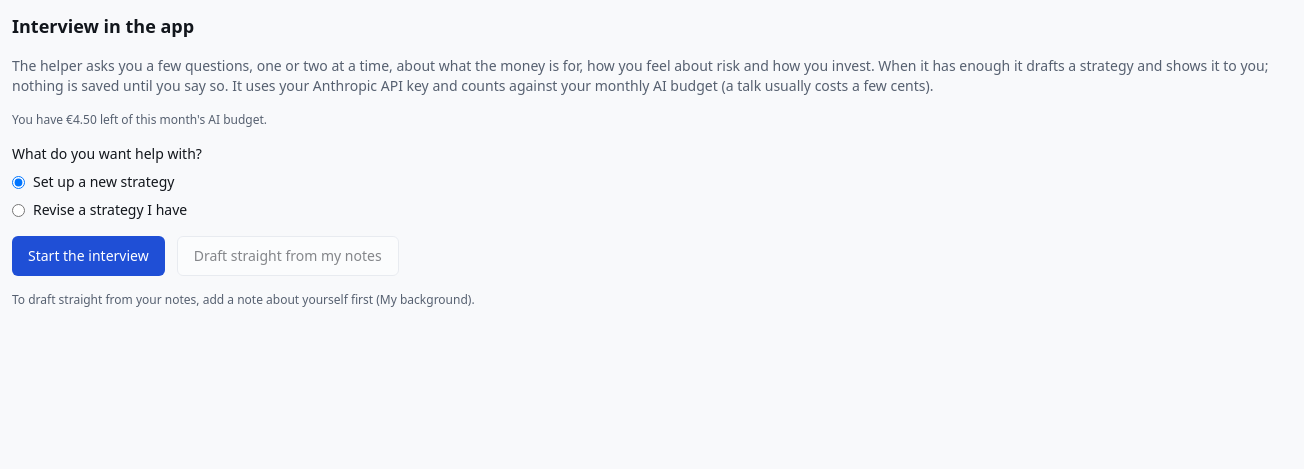
Scenario: the strategy interview in the app (ADR 0048) › revises a chosen strategy and shows what happened when the budget is used up
Click the radio button labelled "Revise a strategy I have" at (18, 210), box top-left (12, 204), bottom-right (25, 216)
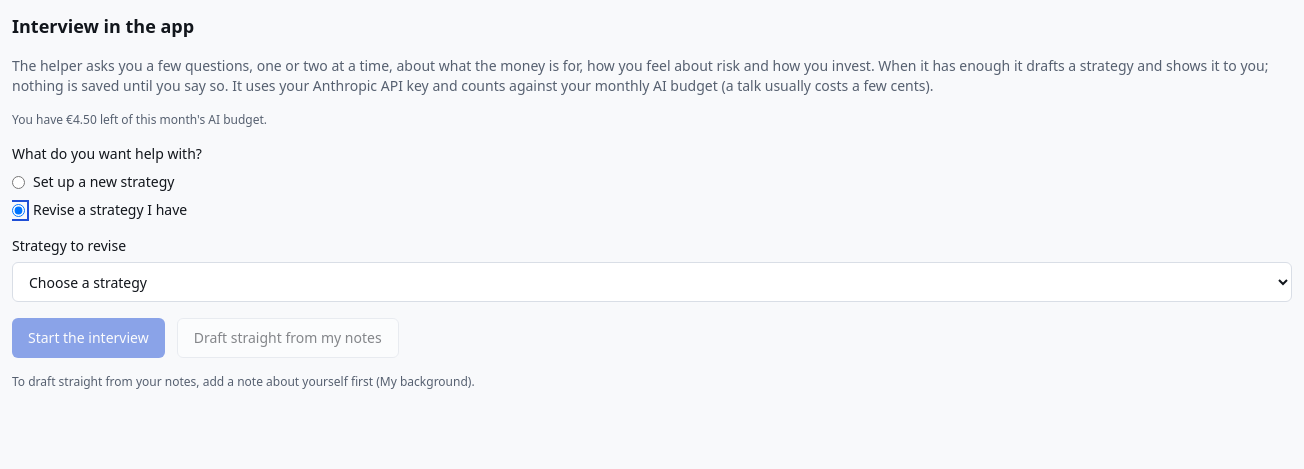
Select "Old plan" in the dropdown labelled "Strategy to revise" at (652, 282), box top-left (12, 262), bottom-right (1292, 302)
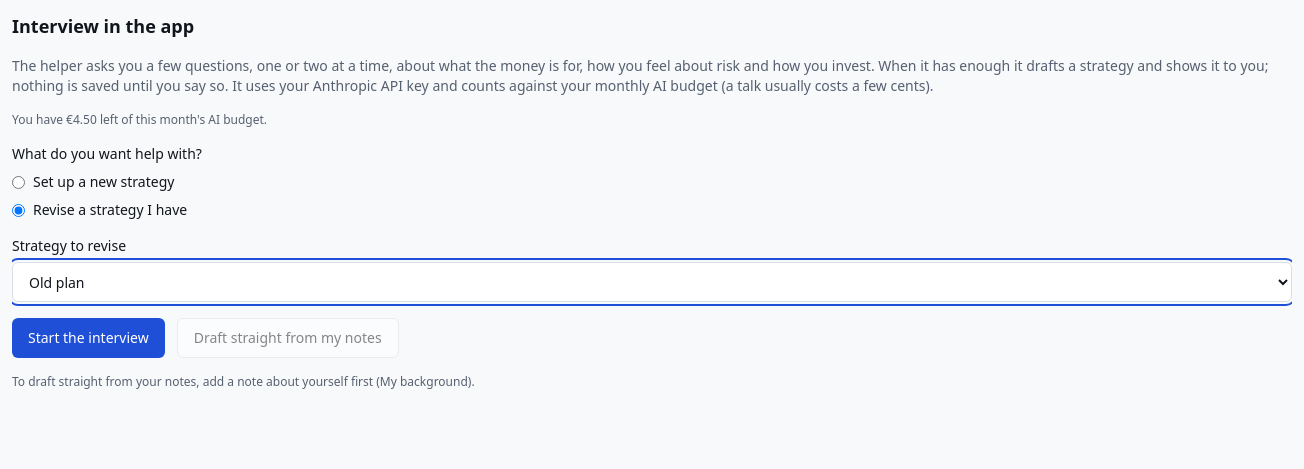
Click the button "Start the interview" at (88, 338), box top-left (12, 318), bottom-right (165, 358)
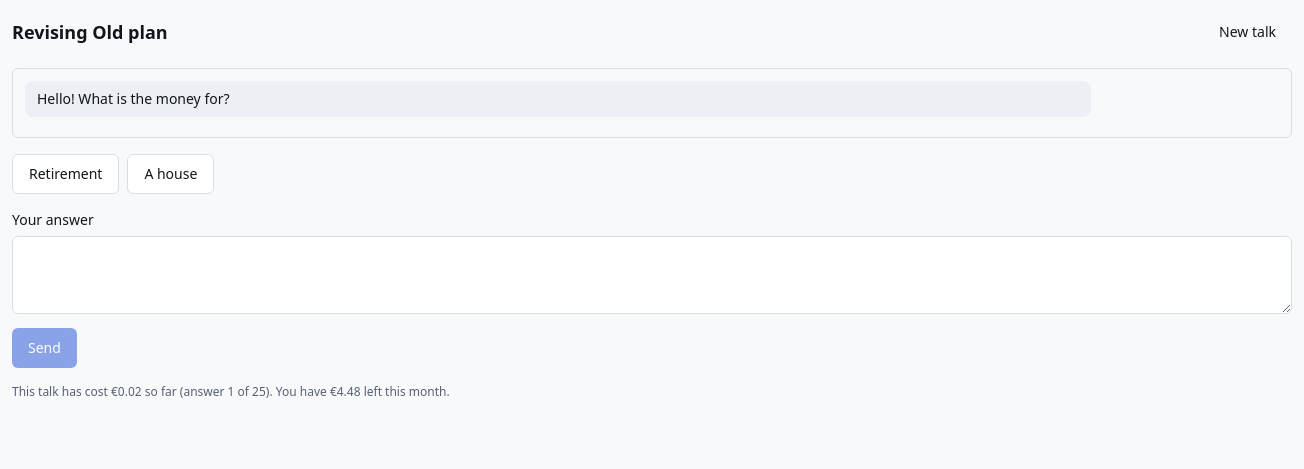
Check: the heading "Revising Old plan" is shown, box top-left (12, 18), bottom-right (168, 46)
Type "Lower the drawdown level." into the text box labelled "Your answer" at (652, 275), box top-left (12, 236), bottom-right (1292, 314)
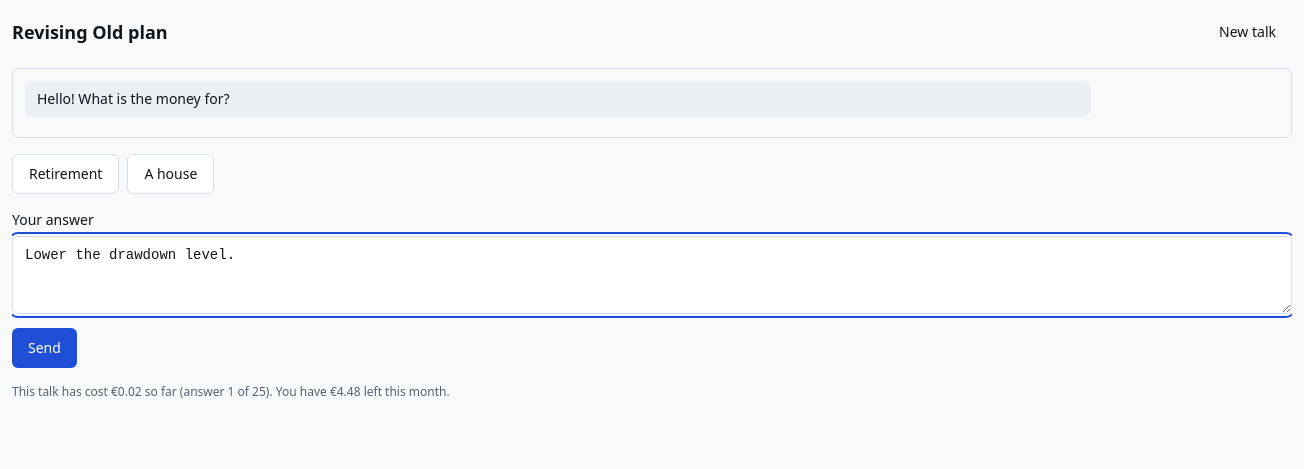
Click the button "Send" at (44, 348), box top-left (12, 328), bottom-right (77, 368)
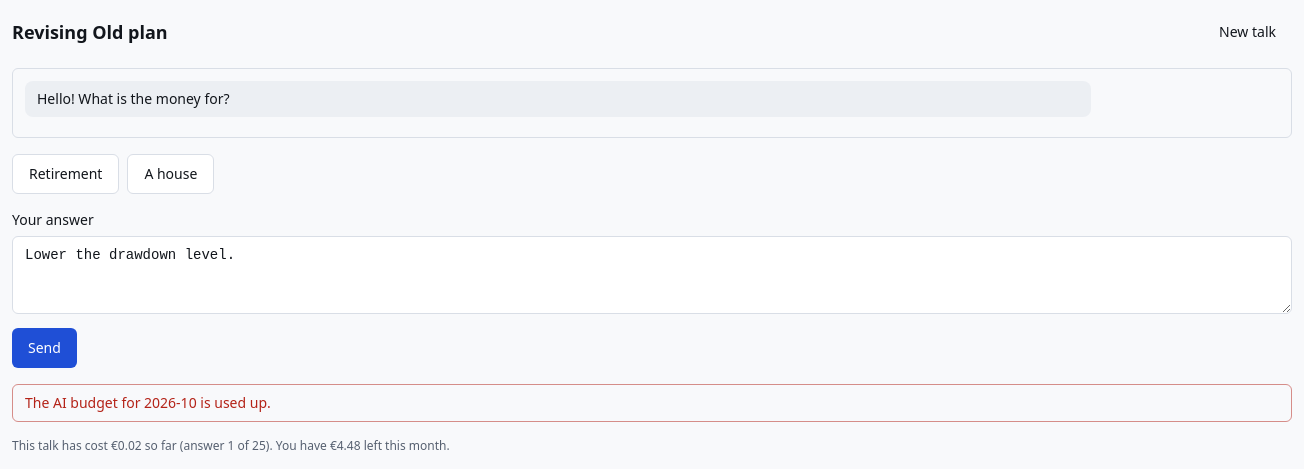
Check: the message shows "budget for 2026-10 is used up", box top-left (25, 393), bottom-right (271, 412)
